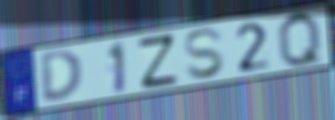1: (105, 39, 130, 94)
2: (234, 21, 272, 74)
D: (38, 48, 86, 104)
Q: (275, 10, 327, 69)
S: (181, 26, 227, 81)
Z: (135, 32, 180, 91)
